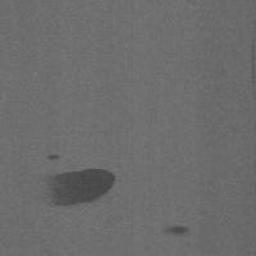Oil spot: (36, 166, 116, 209), (159, 225, 191, 238), (45, 152, 61, 161)
